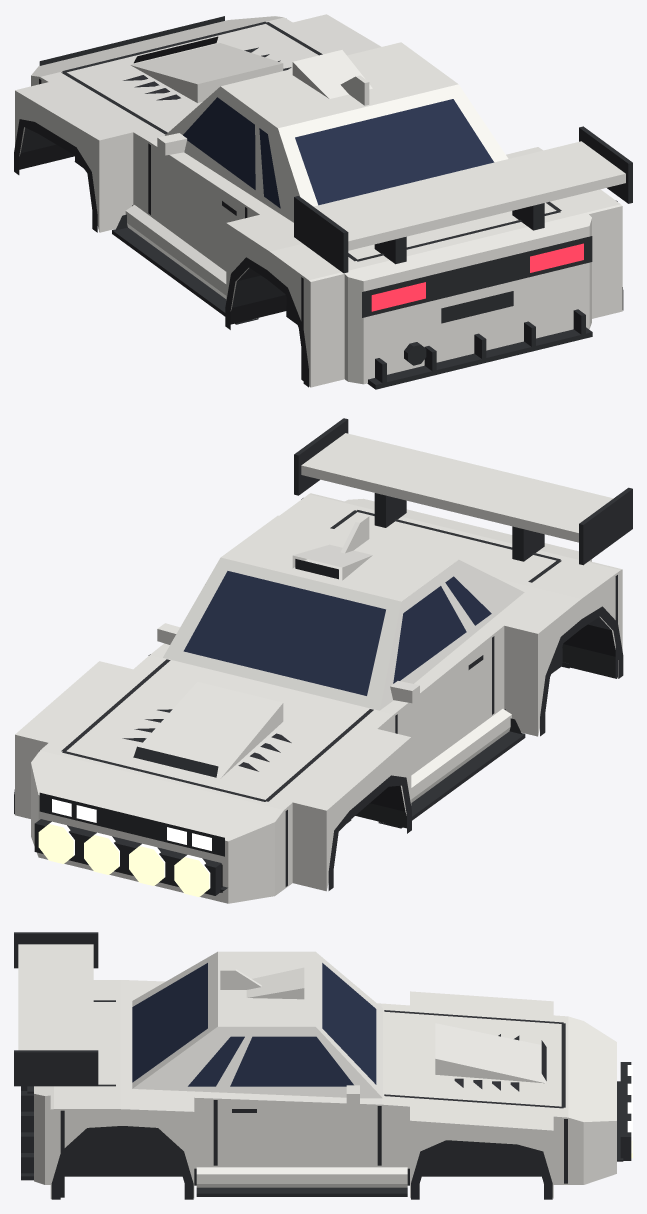
File: Blitz.glb
The picture shows the model from 3 angles, top to bottom: view 1: azimuth 30°, elevation 25°; view 2: azimuth 150°, elevation 25°; view 3: azimuth 270°, elevation 25°; orthographic projection. The views are drawn at different scales.
Parts seen in each view (by area): view 1: BumperRear, DeckWingBlade, Hood, RearWindow, Pillars, Roof, Fender_FL, Door_FL, DeckWing, Opt_Hood_Scoop_HoodScoop, TailGarnish, Trunk (+21 smaller); view 2: Hood, BumperFront, Windshield, DeckWingBlade, Pillars, Roof, Trunk, Opt_Hood_Scoop_HoodScoop, Door_FL, Fender_RL, Fender_FL, DeckWing (+17 smaller); view 3: Hood, Door_FR, Pillars, DeckWingBlade, BumperFront, WheelWell, Fender_FR, Roof, RearWindow, Opt_Hood_Scoop_HoodScoop, Window_FR, Fender_RR (+15 smaller).
Part boxes in pixels (x1,y1,x2,y2): BumperRear: (305, 201, 622, 387); DeckWingBlade: (314, 141, 625, 250); Hood: (15, 14, 381, 141); RearWindow: (295, 99, 494, 205); Pillars: (165, 84, 508, 222); Roof: (221, 42, 458, 128); Fender_FL: (15, 77, 149, 232); Door_FL: (149, 142, 248, 271); DeckWing: (294, 126, 632, 273); Opt_Hood_Scoop_HoodScoop: (130, 43, 283, 102); TailGarnish: (362, 236, 592, 317); Trunk: (270, 189, 616, 277); Hood: (15, 655, 410, 810); BumperFront: (31, 750, 284, 903); Windshield: (183, 571, 385, 695); DeckWingBlade: (301, 433, 613, 542); Pillars: (163, 557, 524, 710); Roof: (221, 515, 458, 601); Trunk: (279, 497, 616, 598); Opt_Hood_Scoop_HoodScoop: (130, 681, 283, 778); Door_FL: (393, 635, 492, 775); Fender_RL: (493, 573, 616, 736); Fender_FL: (284, 715, 411, 891); DeckWing: (294, 418, 632, 565); Hood: (382, 991, 568, 1130); Door_FR: (213, 1098, 381, 1167); Pillars: (132, 951, 382, 1098); DeckWingBlade: (18, 944, 93, 1050); BumperFront: (568, 1016, 616, 1184); WheelWell: (64, 1134, 541, 1176); Fender_FR: (382, 1104, 568, 1198); Roof: (218, 951, 315, 1026); RearWindow: (132, 963, 207, 1082); Opt_Hood_Scoop_HoodScoop: (435, 1023, 545, 1083); Window_FR: (230, 1036, 353, 1086); Fender_RR: (60, 1097, 213, 1198).
Bounding box in the file's own units: 6.96 × 4.16 × 13.96.
